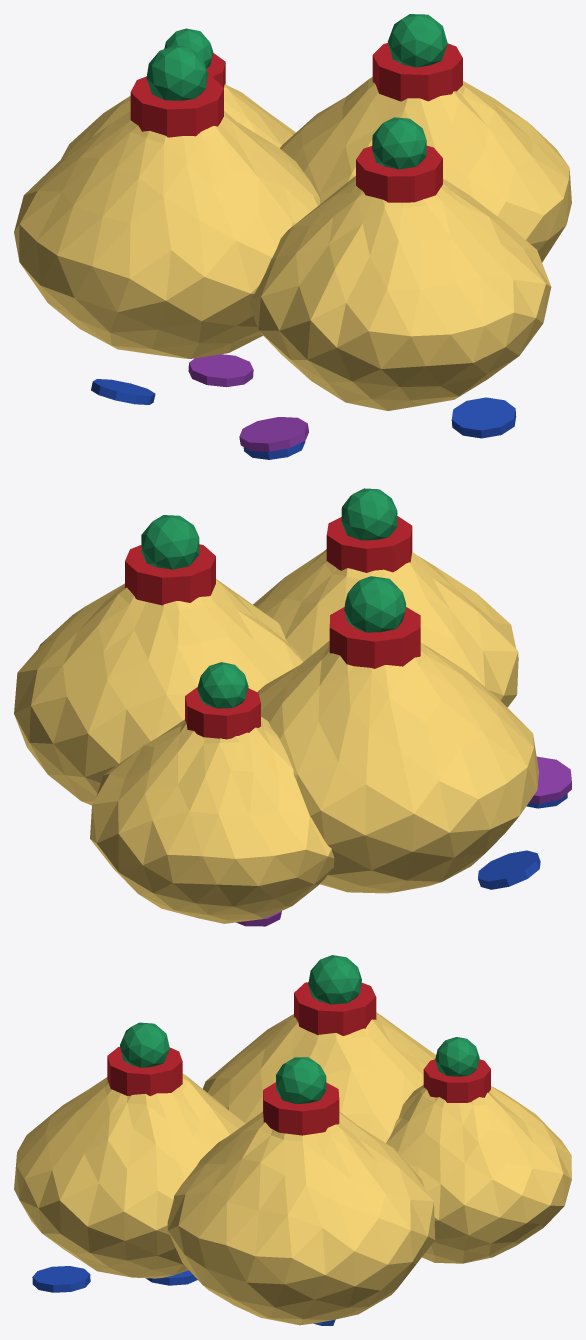
File: treasury_gold_4.obj
3 renders of one model, top to bottom at view 1: azimuth 30°, elevation 25°; view 2: azimuth 150°, elevation 25°; view 3: azimuth 270°, elevation 25°, orthographic. The views are drawn at different scales.
Parts seen in each view (by area): view 1: geometry_0, geometry_6, geometry_3, geometry_1, geometry_4, geometry_7, geometry_9, geometry_2, geometry_5, geometry_8, geometry_26, geometry_17 (+3 smaller); view 2: geometry_0, geometry_9, geometry_3, geometry_6, geometry_1, geometry_4, geometry_7, geometry_2, geometry_10, geometry_5, geometry_8, geometry_11 (+2 smaller); view 3: geometry_3, geometry_6, geometry_9, geometry_0, geometry_1, geometry_4, geometry_7, geometry_2, geometry_10, geometry_5, geometry_8, geometry_11 (+1 smaller).
Boxes of the visible parts, x1,y1,x2,y2 form: geometry_0: [14, 111, 320, 358]; geometry_6: [250, 176, 551, 410]; geometry_3: [280, 77, 571, 262]; geometry_1: [130, 76, 223, 137]; geometry_4: [372, 43, 462, 101]; geometry_7: [356, 145, 442, 202]; geometry_9: [61, 84, 295, 159]; geometry_2: [146, 45, 207, 100]; geometry_5: [387, 14, 447, 67]; geometry_8: [372, 117, 426, 169]; geometry_26: [451, 397, 516, 438]; geometry_17: [239, 417, 308, 451]; geometry_0: [257, 641, 538, 893]; geometry_9: [90, 716, 334, 923]; geometry_3: [14, 579, 303, 805]; geometry_6: [253, 549, 518, 707]; geometry_1: [329, 607, 420, 668]; geometry_4: [125, 544, 215, 605]; geometry_7: [326, 516, 412, 572]; geometry_2: [344, 576, 406, 632]; geometry_10: [185, 687, 260, 739]; geometry_5: [141, 515, 199, 569]; geometry_8: [341, 488, 397, 540]; geometry_11: [197, 662, 248, 708]; geometry_3: [167, 1111, 435, 1325]; geometry_6: [14, 1073, 244, 1278]; geometry_9: [386, 1085, 571, 1263]; geometry_0: [202, 1012, 435, 1142]; geometry_1: [294, 982, 376, 1035]; geometry_4: [263, 1082, 339, 1135]; geometry_7: [107, 1046, 182, 1096]; geometry_2: [308, 955, 361, 1004]; geometry_10: [423, 1059, 490, 1102]; geometry_5: [276, 1057, 326, 1103]; geometry_8: [120, 1022, 169, 1067]; geometry_11: [435, 1037, 479, 1076].
Bounding box in the file's own units: 0.7377 × 0.4397 × 0.8213.
